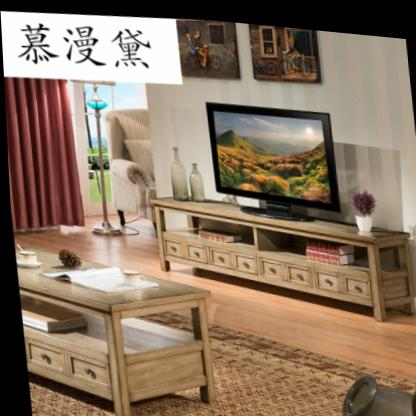Carpet: (24, 325, 414, 416)
Curtains: (3, 76, 82, 232)
TV stand: (148, 196, 412, 314)
